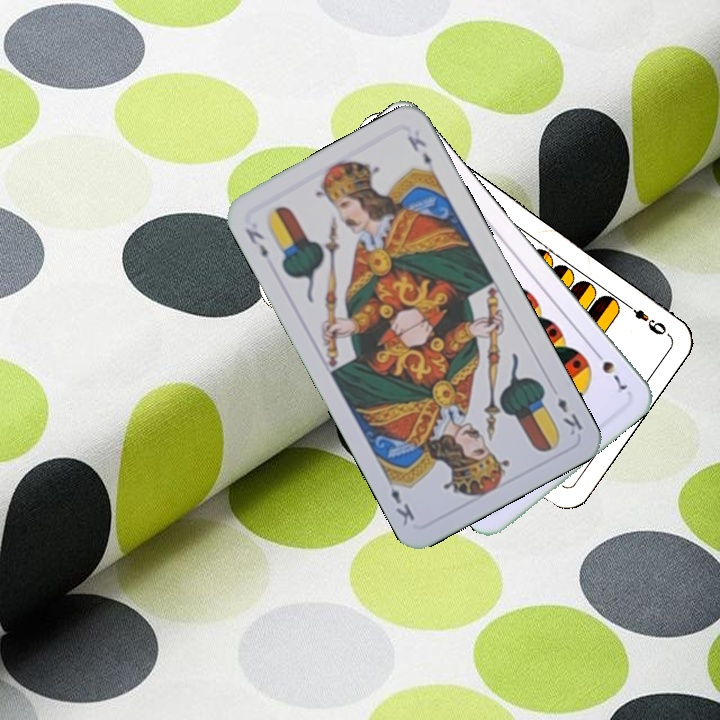E9: (620, 298, 669, 338)
EK: (553, 393, 586, 438), (241, 224, 271, 261)
S7: (589, 345, 630, 396)
